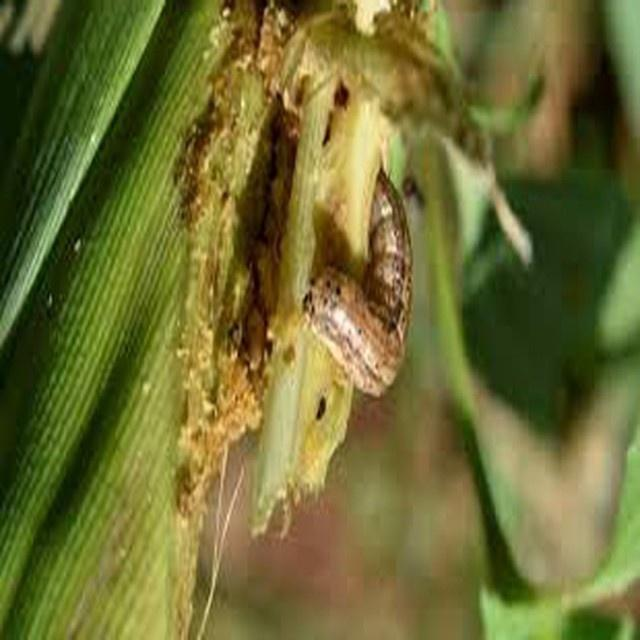Plaga: (305, 171, 408, 403)
